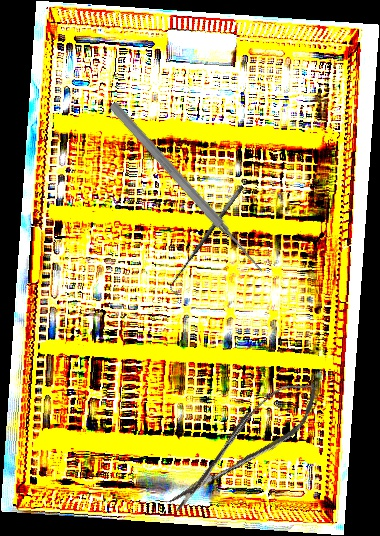Hook Surgical: (164, 183, 253, 297)
Micro Scissor: (155, 369, 331, 521)
Pusher: (106, 100, 268, 276)
